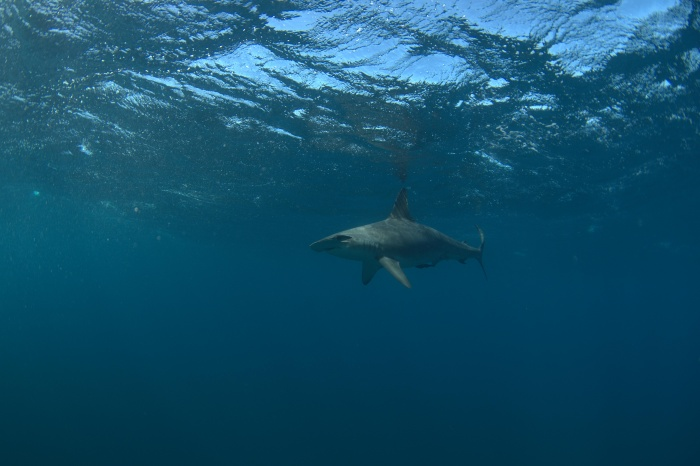Hammer: (272, 176, 524, 312)
